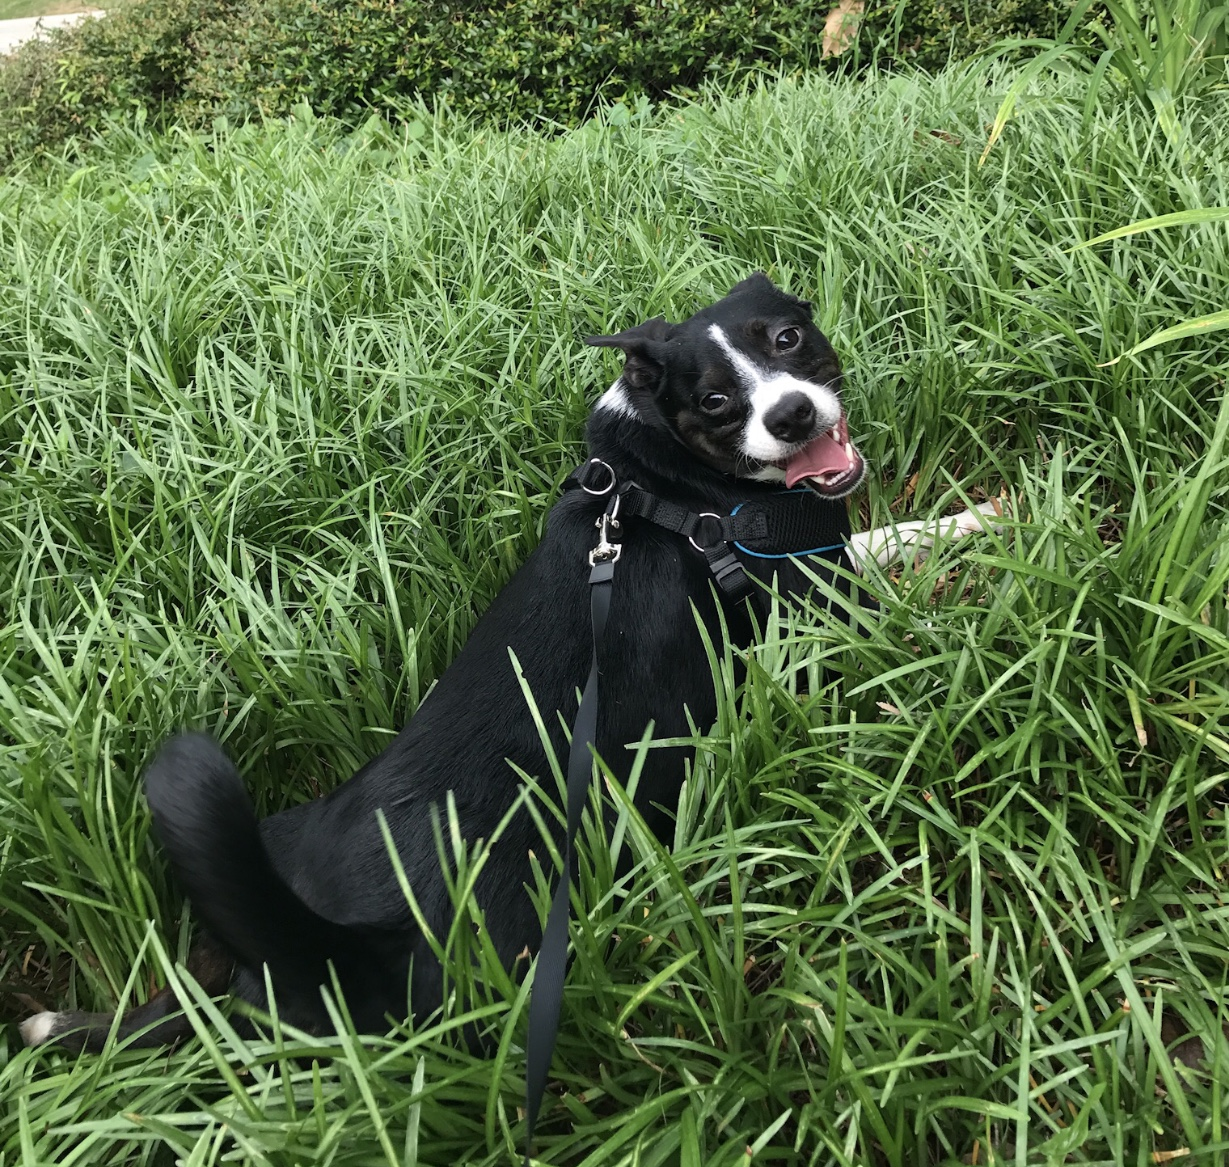Harley: (35, 282, 1016, 1051)
